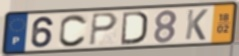6: (30, 15, 55, 49)
8: (154, 8, 179, 44)
C: (57, 13, 89, 48)
D: (120, 10, 149, 46)
K: (183, 8, 209, 41)
P: (88, 12, 119, 48)
